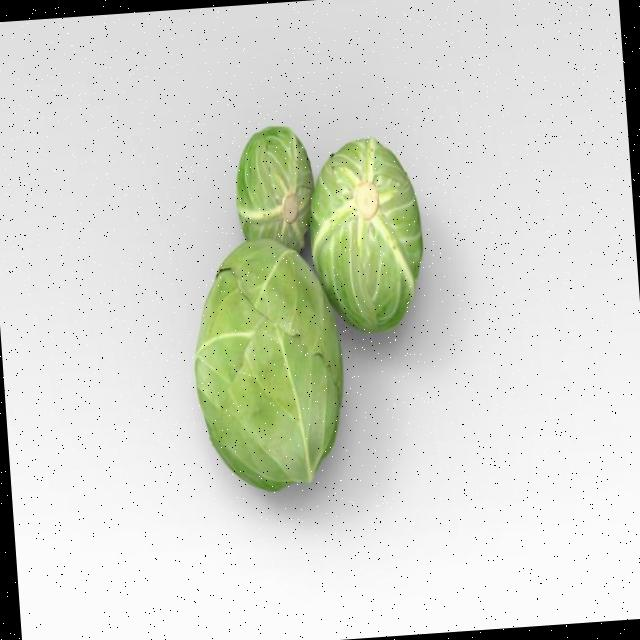cabbage: (184, 233, 356, 504), (300, 128, 433, 345), (230, 116, 320, 261)
